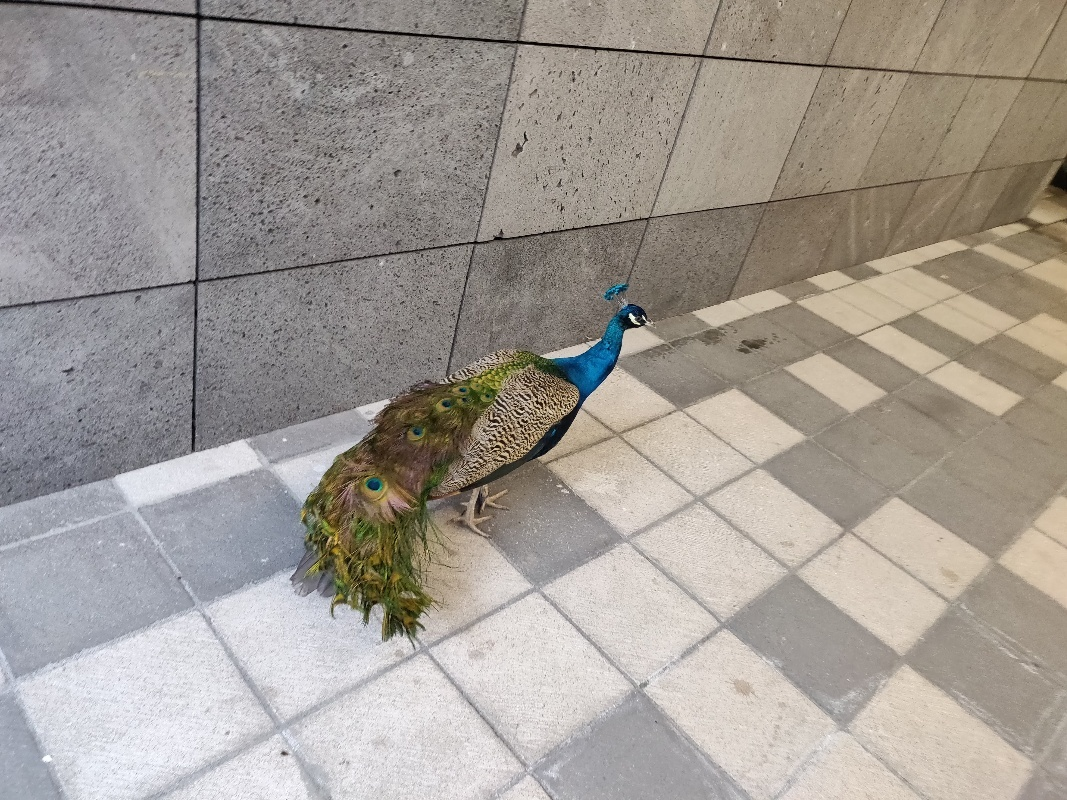pavoreal: (435, 279, 655, 488)
